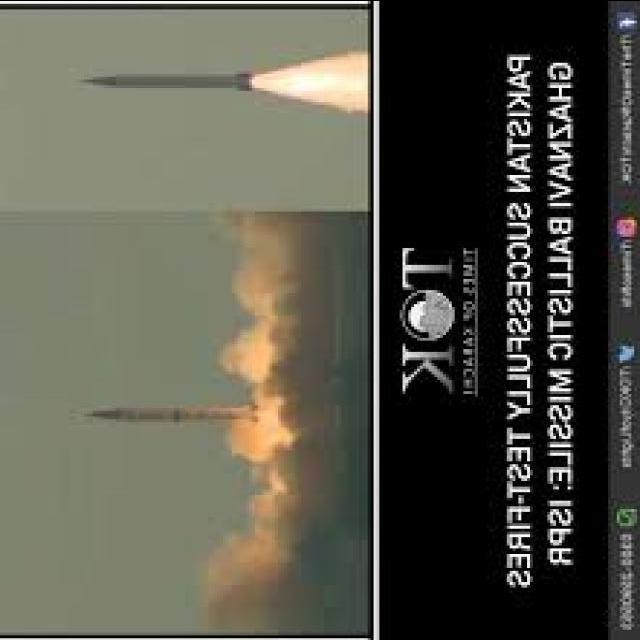Missile: (78, 67, 257, 90), (80, 402, 257, 425)
